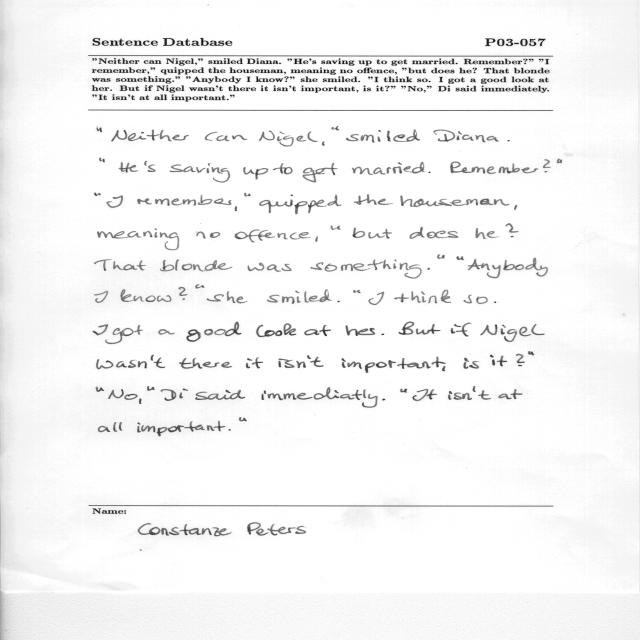word: (262, 387, 378, 408), (310, 260, 422, 279), (98, 228, 179, 250), (468, 258, 548, 279), (259, 195, 342, 215), (347, 357, 446, 373), (137, 421, 225, 436), (401, 195, 510, 207), (170, 163, 230, 183), (480, 324, 545, 342), (187, 322, 242, 342), (450, 162, 538, 174), (137, 195, 232, 206), (235, 230, 311, 243), (267, 289, 332, 304), (346, 130, 420, 143), (97, 355, 165, 369), (352, 162, 425, 175), (259, 131, 318, 147), (111, 130, 189, 142), (160, 259, 232, 272), (279, 355, 346, 368), (93, 324, 134, 344), (394, 290, 451, 304), (433, 130, 499, 142), (120, 289, 172, 302), (303, 163, 338, 182), (95, 259, 146, 271), (448, 386, 491, 400), (410, 227, 459, 239), (179, 358, 232, 369), (256, 323, 296, 337), (399, 322, 441, 335), (195, 390, 245, 400), (207, 292, 247, 304), (354, 194, 393, 205), (353, 228, 392, 239), (248, 263, 292, 272), (205, 132, 247, 141), (161, 388, 188, 401), (108, 389, 138, 400), (346, 325, 375, 336), (243, 167, 268, 179), (412, 389, 437, 401), (304, 325, 331, 336), (451, 323, 471, 337), (476, 228, 500, 239), (499, 389, 523, 399), (99, 422, 123, 432), (463, 295, 488, 304), (273, 164, 293, 175), (119, 162, 138, 173), (107, 195, 123, 208), (369, 292, 384, 305), (246, 358, 263, 369), (490, 355, 507, 366), (506, 224, 519, 238), (196, 232, 220, 239), (464, 358, 479, 369), (95, 291, 108, 303), (144, 161, 156, 172), (178, 287, 188, 300), (516, 354, 525, 366), (543, 160, 551, 173), (158, 329, 175, 335), (134, 325, 143, 335), (330, 225, 341, 230), (195, 285, 205, 289), (96, 387, 104, 392), (147, 386, 155, 391), (464, 362, 469, 369), (332, 127, 340, 131), (437, 255, 445, 259), (239, 418, 247, 422), (97, 127, 102, 133), (457, 256, 464, 260), (400, 389, 407, 393), (557, 159, 562, 164), (353, 290, 361, 293), (528, 352, 534, 356), (244, 193, 251, 196), (100, 158, 105, 162), (95, 193, 101, 196), (315, 236, 318, 242), (322, 141, 325, 146), (514, 205, 517, 210), (139, 398, 141, 404), (235, 206, 237, 211), (427, 268, 430, 270), (383, 399, 386, 401), (494, 301, 496, 303), (229, 429, 231, 431), (507, 140, 510, 141), (428, 172, 431, 173), (337, 301, 340, 302), (382, 334, 384, 335)
